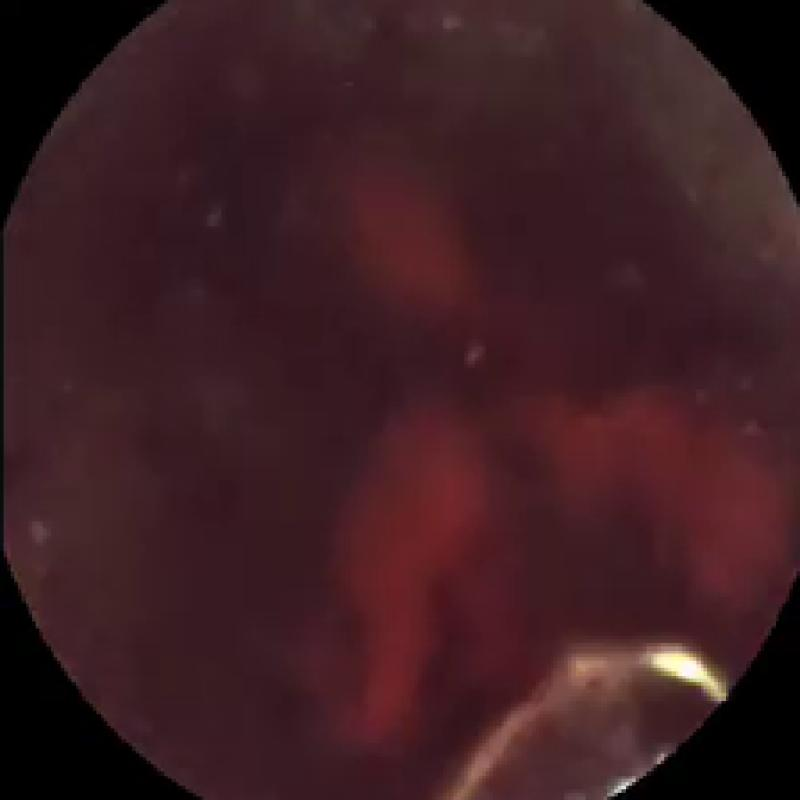bleeding: (318, 413, 514, 735), (534, 389, 784, 612), (343, 168, 471, 321)
